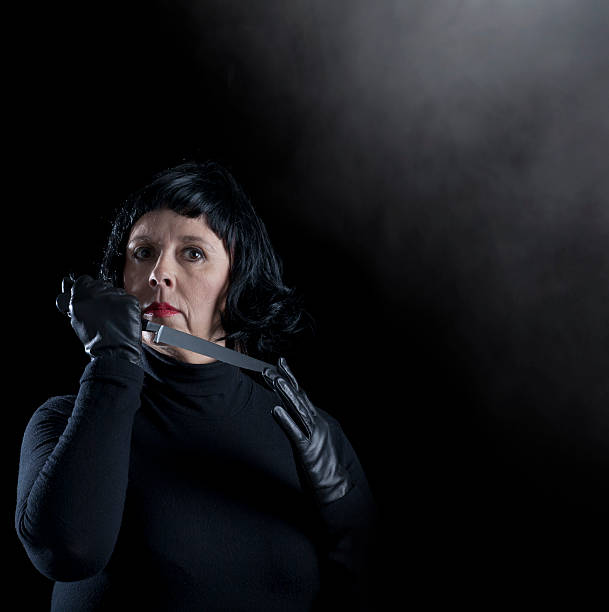knife: (54, 292, 279, 376)
